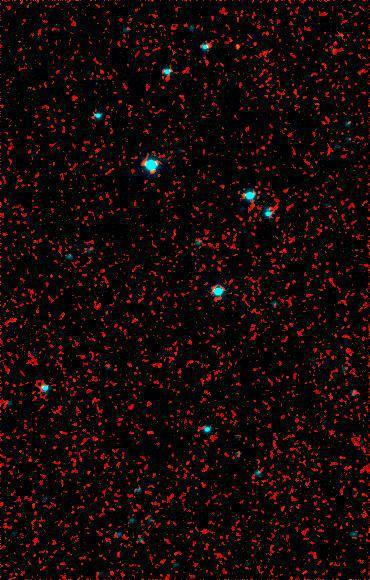star: (137, 418, 167, 448)
